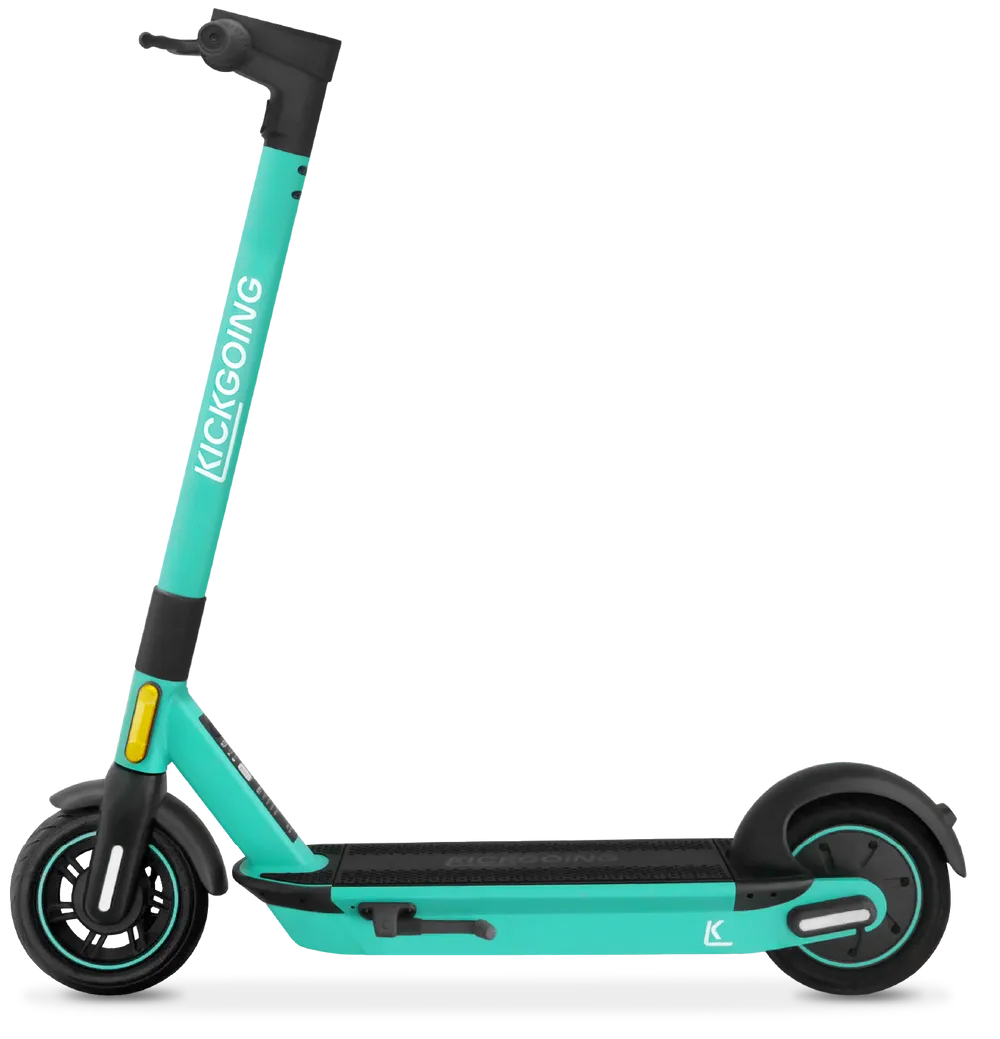kick_board: (8, 11, 966, 1000)
kick_body: (311, 835, 750, 955)
kick_handler: (133, 9, 353, 145)
kick_neck: (118, 102, 339, 776)
kick_wheel: (742, 766, 963, 998), (16, 781, 228, 992)
